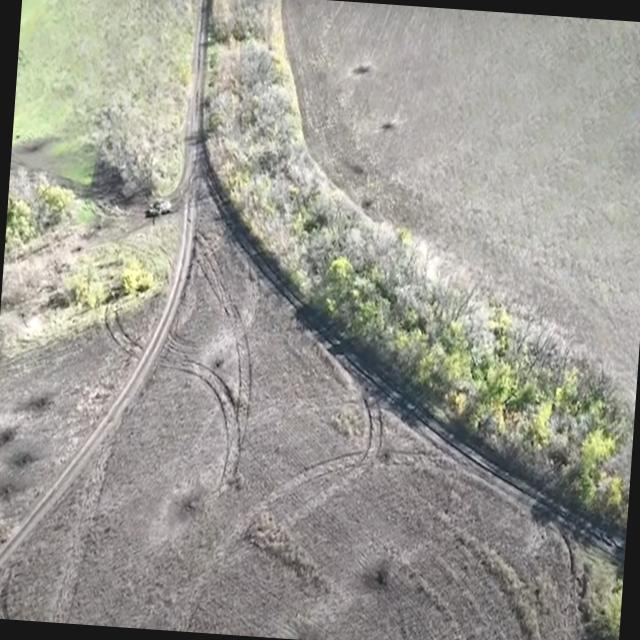MBT: (146, 197, 174, 224)
